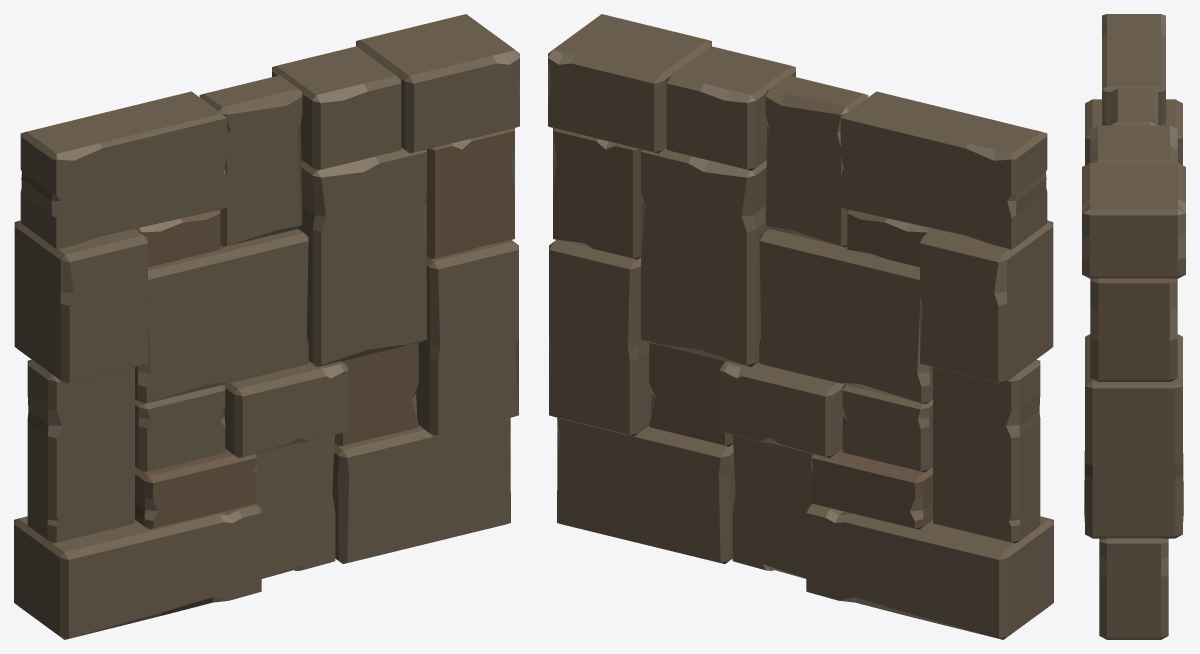
File: Wall.glb
3 renders of one model, left to right at view 1: azimuth 30°, elevation 25°; view 2: azimuth 150°, elevation 25°; view 3: azimuth 270°, elevation 25°, orthographic. The views are drawn at different scales.
Parts seen in each view (by area): view 1: Wall; view 2: Wall; view 3: Wall.
Boxes of the visible parts, x1=… form: Wall: x1=14, y1=14, x2=519, y2=639; Wall: x1=548, y1=14, x2=1053, y2=639; Wall: x1=1082, y1=14, x2=1185, y2=639.
Size of the model in its own units: 2 by 2.01 by 0.4381.
